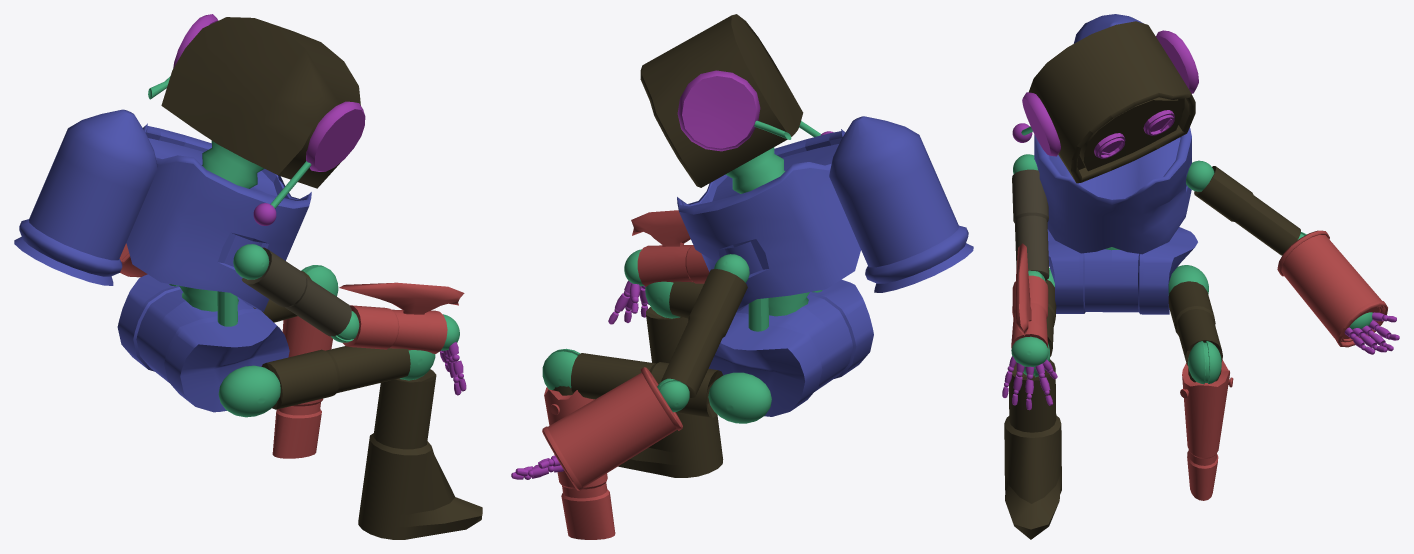
Rendered from rbrtSamDies.fbx.
3 renders of one model, left to right at view 1: azimuth 30°, elevation 25°; view 2: azimuth 150°, elevation 25°; view 3: azimuth 270°, elevation 25°, orthographic. The views are drawn at different scales.
Visible parts, largest first — view 1: Head, Chest, JetPack, Hips2, LeftLeg4, RightArm8, LeftLeg5, RightArm5, PegLeg, EarR1, LeftLeg6, Torso6 (+5 smaller); view 2: Chest, JetPack, Hips2, Head, Can, LeftLeg4, EarR, RightArm5, RightArm8, PegLeg, RighLeg2, RightHip (+8 smaller); view 3: Head, Chest, Hips2, LeftLeg4, RightArm5 (×2), Can, PegLeg, RighLeg2, RightArm8, EarR1, EarR, RightLeg7 (+7 smaller).
Part boxes in pixels (x1,y1,x2,y2): Head: [161, 17, 360, 188]; Chest: [126, 123, 311, 311]; JetPack: [14, 109, 157, 285]; Hips2: [117, 274, 289, 412]; LeftLeg4: [358, 369, 482, 539]; RightArm8: [339, 282, 464, 353]; LeftLeg5: [261, 346, 410, 409]; RightArm5: [241, 247, 351, 336]; PegLeg: [272, 316, 332, 458]; EarR1: [306, 101, 365, 171]; LeftLeg6: [218, 365, 280, 417]; Torso6: [202, 140, 264, 188]; Chest: [677, 129, 860, 312]; JetPack: [829, 116, 973, 292]; Hips2: [708, 279, 873, 416]; Head: [640, 14, 803, 187]; Can: [542, 367, 682, 490]; LeftLeg4: [618, 307, 723, 477]; EarR: [677, 70, 760, 151]; RightArm5: [661, 269, 747, 397]; RightArm8: [631, 210, 709, 286]; PegLeg: [544, 387, 615, 539]; RighLeg2: [571, 353, 722, 417]; RightHip: [708, 372, 771, 423]; Head: [1029, 21, 1195, 183]; Chest: [1034, 127, 1191, 254]; Hips2: [1047, 227, 1197, 314]; LeftLeg4: [1004, 359, 1061, 539]; RightArm5 (×2): [1012, 166, 1300, 280]; Can: [1277, 230, 1387, 347]; PegLeg: [1182, 359, 1229, 500]; RighLeg2: [1168, 281, 1222, 365]; RightArm8: [1011, 243, 1048, 348]; EarR1: [1022, 92, 1060, 156]; EarR: [1156, 30, 1198, 93]; RightLeg7: [1188, 341, 1221, 384].
Size of the model in its own units: 60.02 by 70.93 by 58.07.
